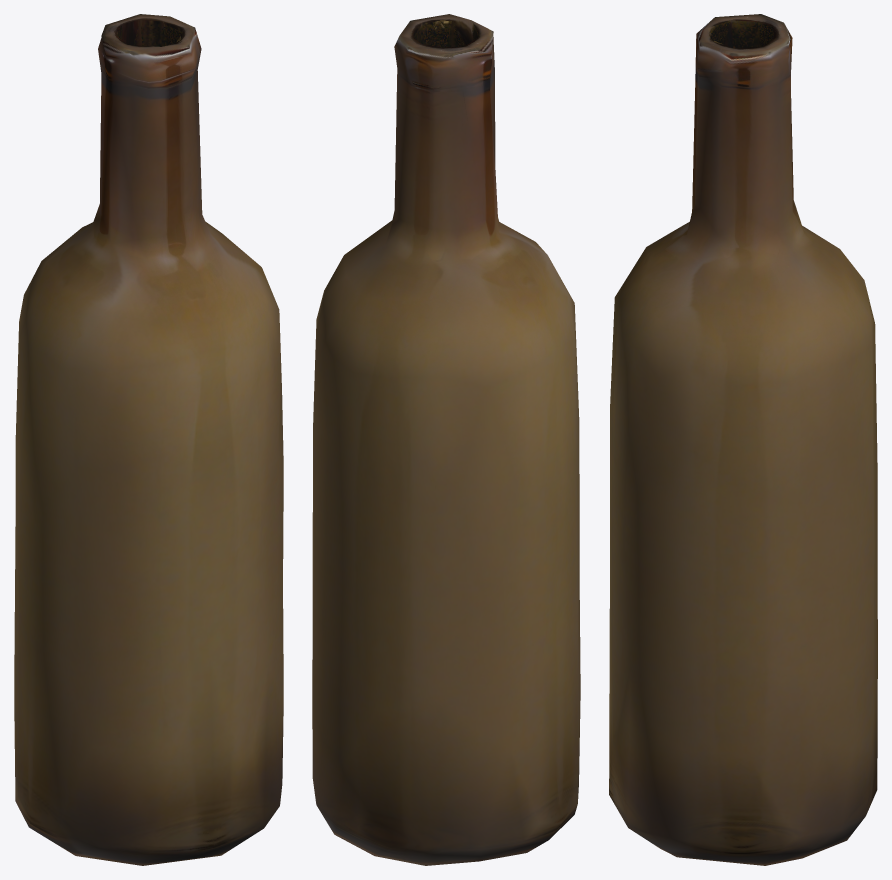
Rendered from Bottle_Alone_1120212258_texture.fbx.
The picture shows the model from 3 angles, left to right: view 1: azimuth 30°, elevation 25°; view 2: azimuth 150°, elevation 25°; view 3: azimuth 270°, elevation 25°; orthographic projection.
Parts seen in each view (by area): view 1: input; view 2: input; view 3: input.
Boxes of the visible parts, box(x1,y1,x2,y2) form: input: box(14, 14, 283, 865); input: box(312, 14, 580, 865); input: box(609, 14, 877, 865).
Bounding box in the file's own units: 62.43 × 201 × 62.14.
1 material, 1 textured.
